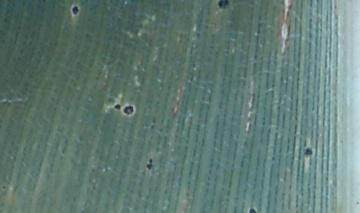tarspot: (122, 104, 134, 116), (216, 1, 230, 10), (145, 157, 153, 171), (303, 146, 313, 157), (71, 5, 79, 16), (113, 103, 121, 111), (247, 206, 256, 213), (355, 199, 360, 207)
